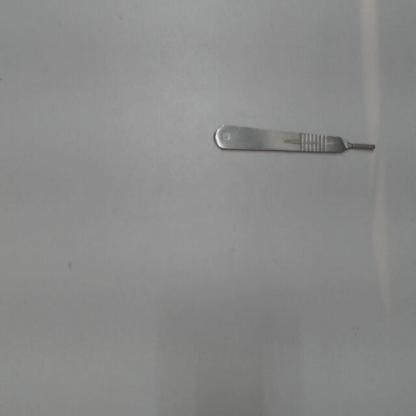No.3 BP Handle: (202, 122, 384, 164)
